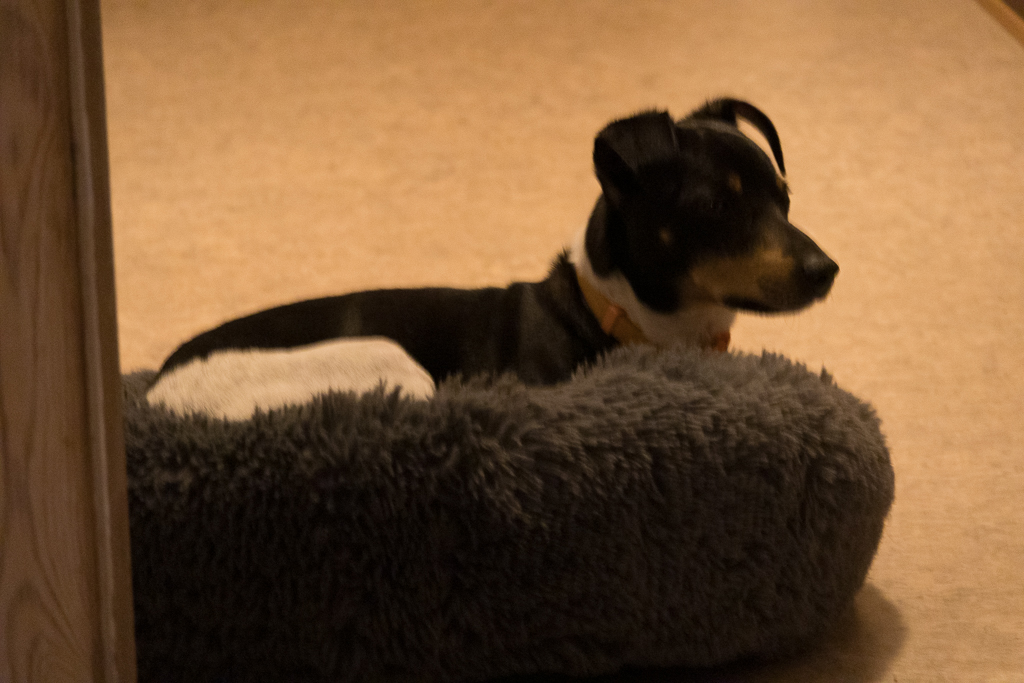Dog: (131, 86, 855, 440)
